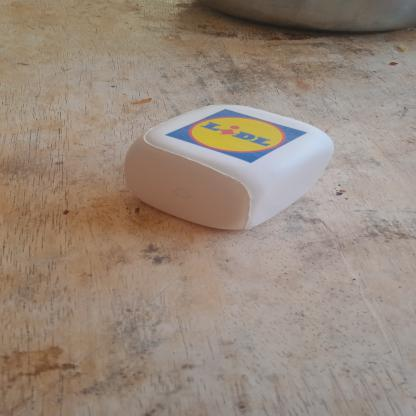Cube: (118, 101, 345, 234)
